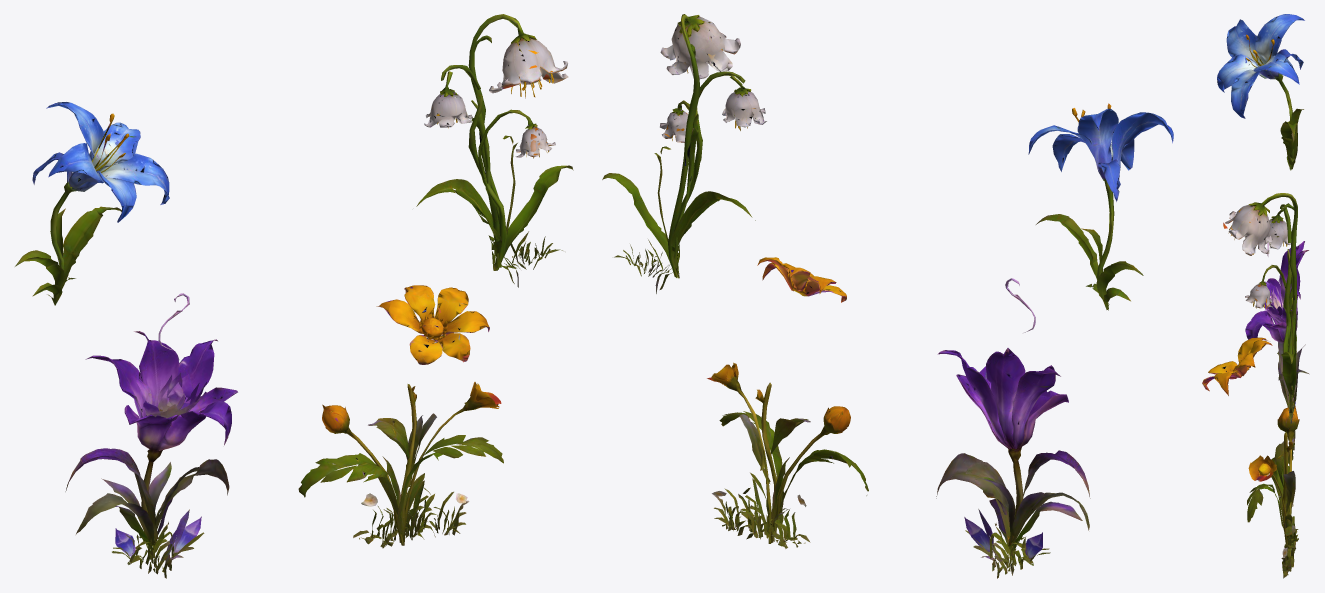
File: blumen.glb
3 views of the same model, side by side, from view 1: azimuth 30°, elevation 25°; view 2: azimuth 150°, elevation 25°; view 3: azimuth 270°, elevation 25° (orthographic). The views are drawn at different scales.
Bounding box in the file's own units: 0.9512 × 0.8569 × 0.2041.
Materials: 1 (1 with a texture image).
